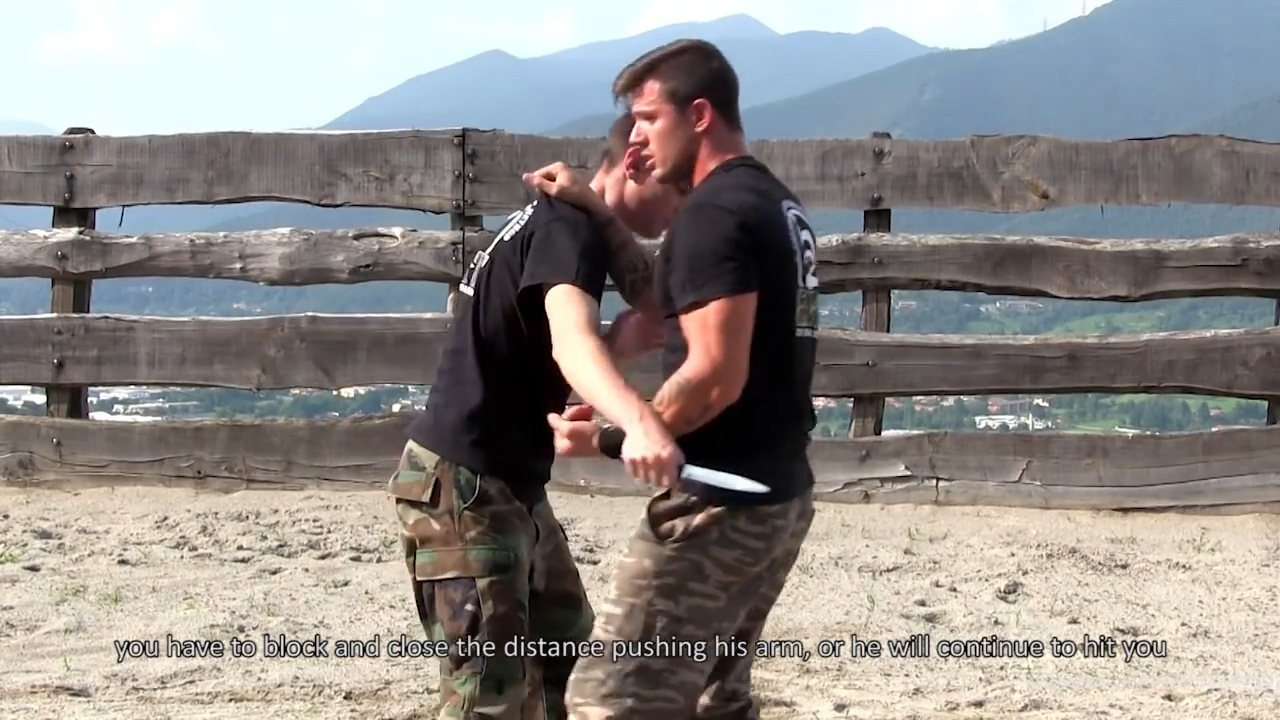knife: (618, 434, 777, 507)
